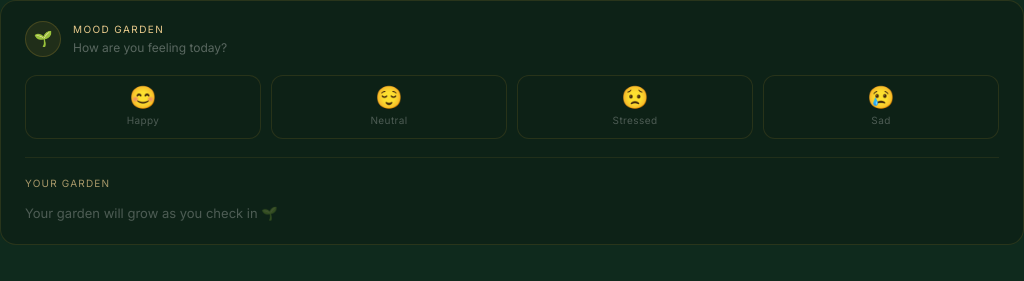
Test: MoodGarden › midnight rollover › shifts a previously selected today-mood into history on rollover
Click the button "😊 Happy".
click(143, 107)  # box [25,75,261,139]
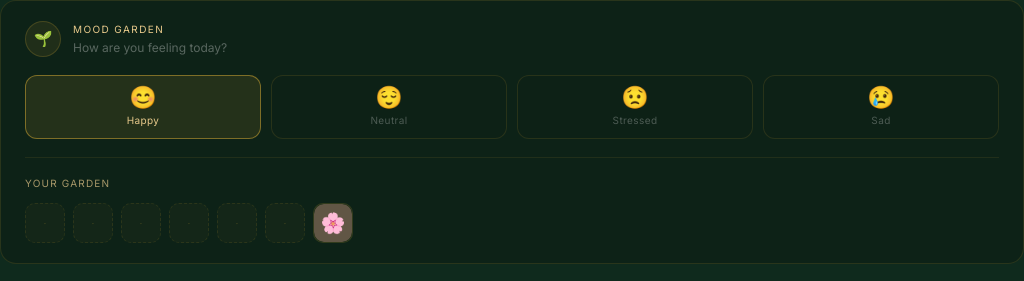
Click the button "😢 Sad".
click(881, 107)  # box [763,75,999,139]
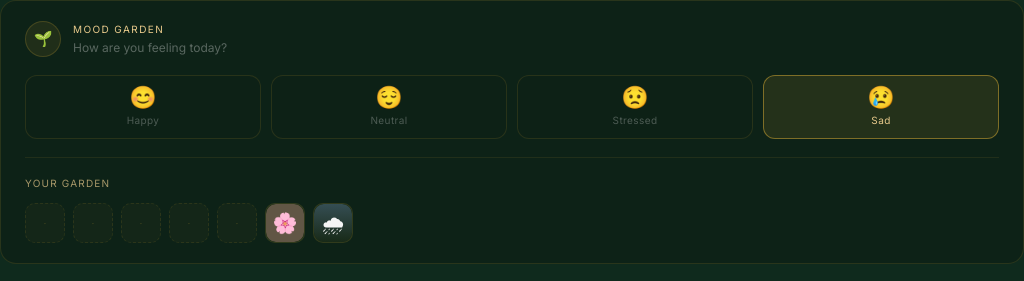
Expected: the text "🌸" is shown, [272,208,298,238]
Expected: the text "🌧" is shown, [322,208,344,238]
